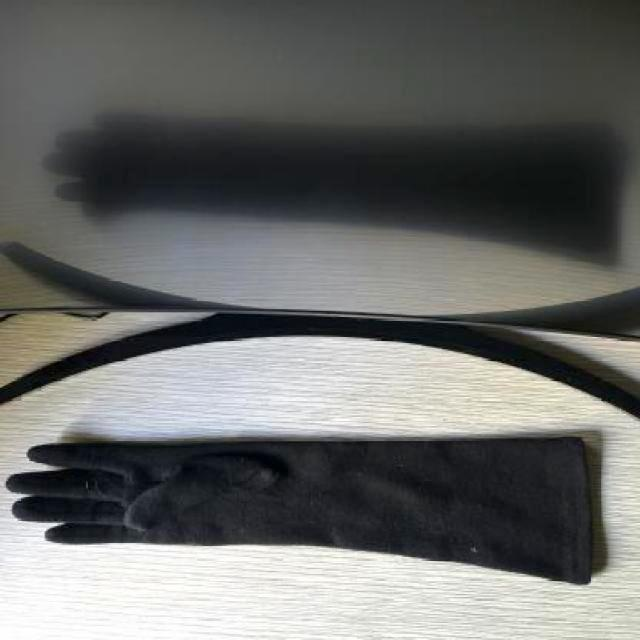Guantes: (9, 421, 605, 607)
